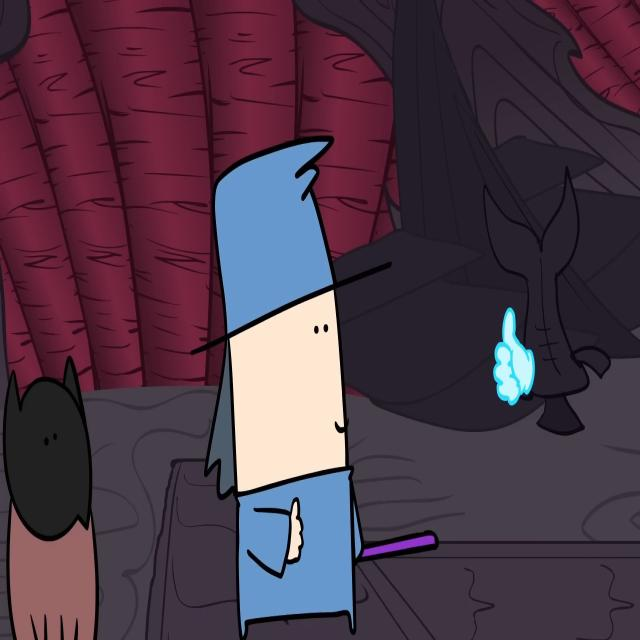Josh: (187, 133, 396, 640)
